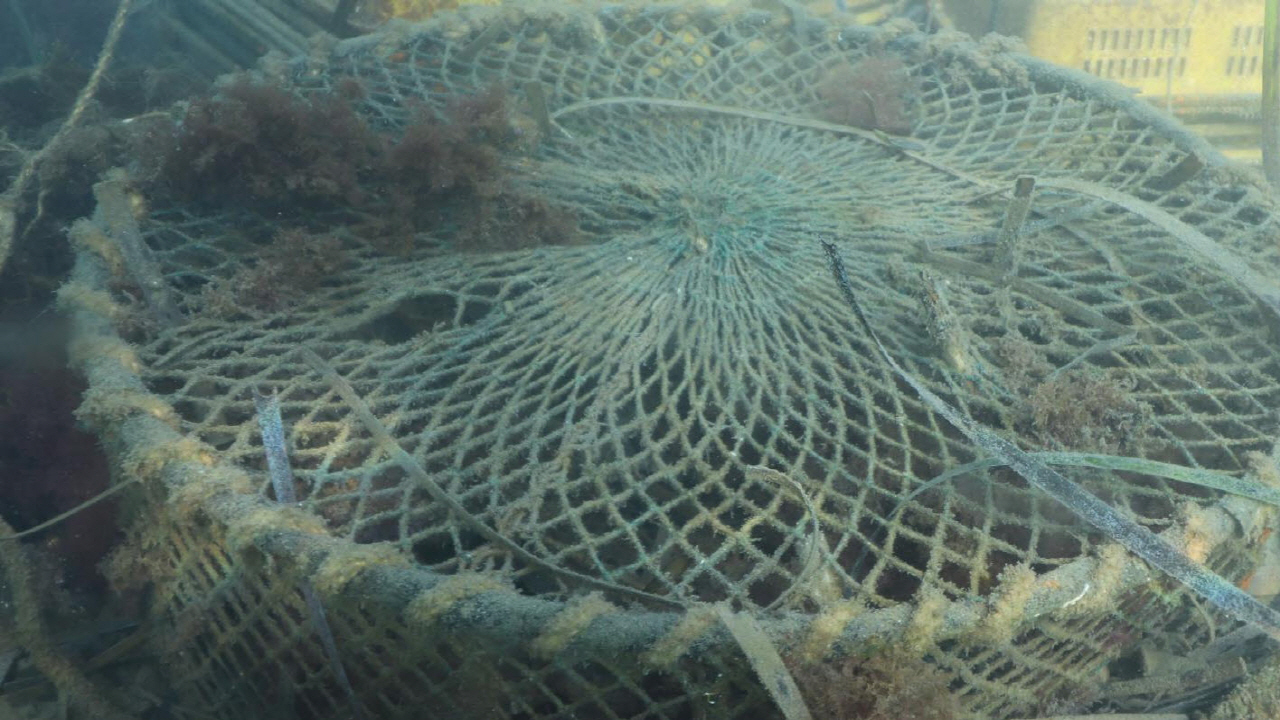circular fish trap: (66, 0, 1280, 720)
rope: (0, 0, 126, 260)
